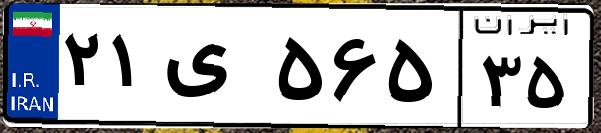1: (110, 28, 158, 98)
2: (57, 26, 110, 100)
3: (475, 38, 525, 113)
5: (270, 28, 330, 110), (385, 28, 445, 110), (525, 38, 570, 115)
6: (330, 28, 385, 110)
ی: (158, 20, 270, 120)
